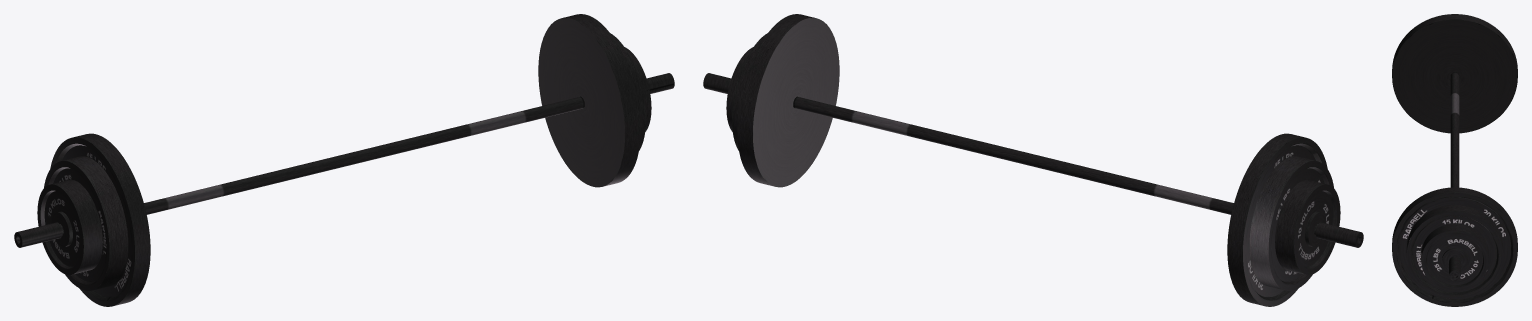
Rendered from BarbelWitchWeights.FBX.
3 views of the same model, side by side, from view 1: azimuth 30°, elevation 25°; view 2: azimuth 150°, elevation 25°; view 3: azimuth 270°, elevation 25° (orthographic). The views are drawn at different scales.
Visible parts, largest first — view 1: 10482_Barbell_with_weights; view 2: 10482_Barbell_with_weights; view 3: 10482_Barbell_with_weights.
Part boxes in pixels (left/top/right/bottom): 10482_Barbell_with_weights: left=14, top=14, right=674, bottom=306; 10482_Barbell_with_weights: left=703, top=14, right=1363, bottom=306; 10482_Barbell_with_weights: left=1392, top=14, right=1517, bottom=306.
Size of the model in its own units: 152 by 35.13 by 35.13.
